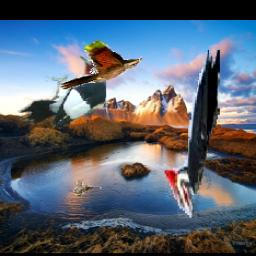Cuckoo: (61, 40, 143, 89)
Sparrow: (73, 181, 102, 197)
Woodpecker: (163, 47, 221, 229), (19, 56, 107, 129)
